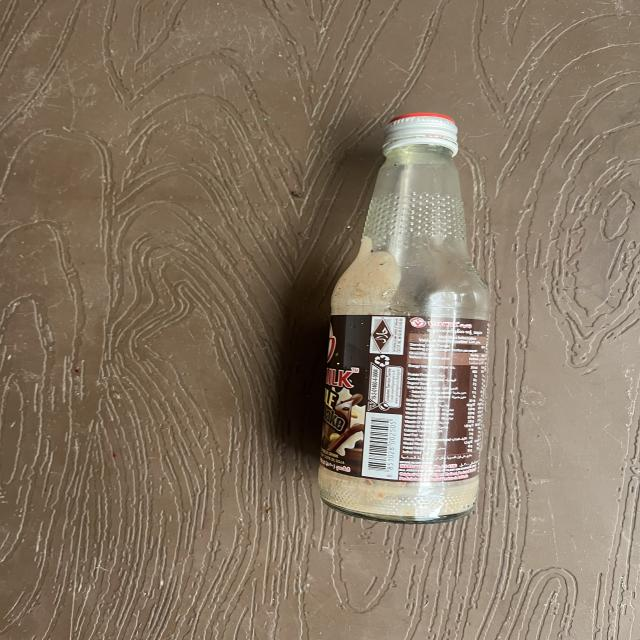Glass_Bottle: (318, 121, 601, 568)
